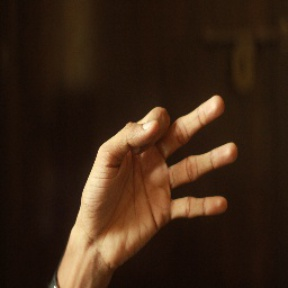K: (78, 93, 241, 242)
